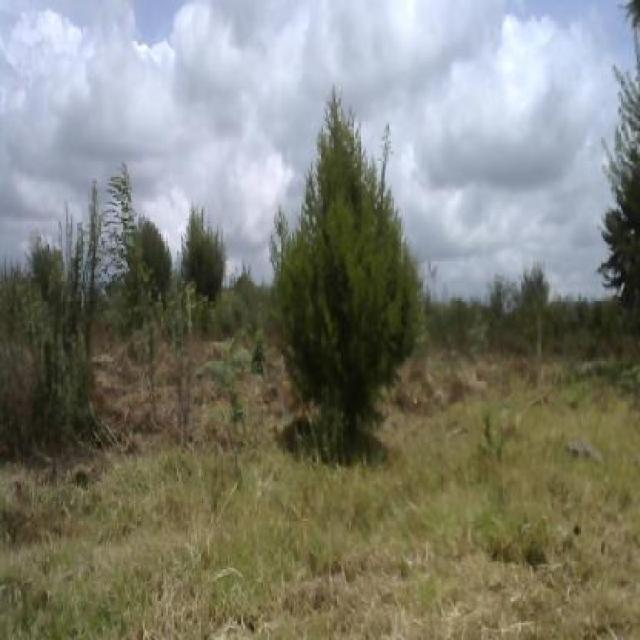tree trunk: (297, 106, 371, 457)
